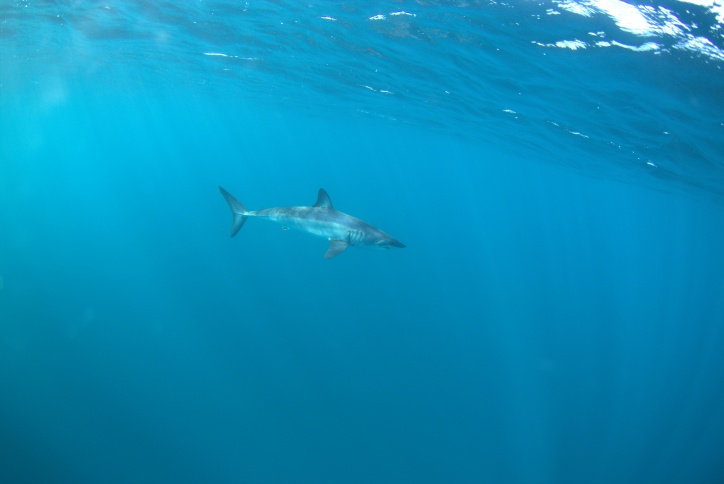Mako: (208, 180, 407, 270)
